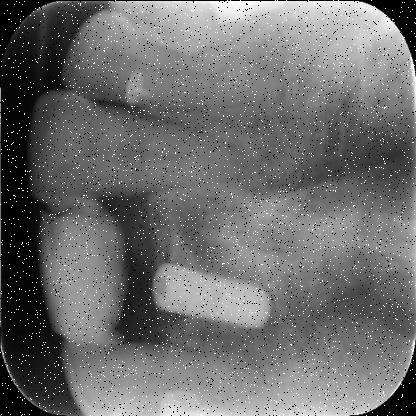ITI: (144, 260, 280, 334)
